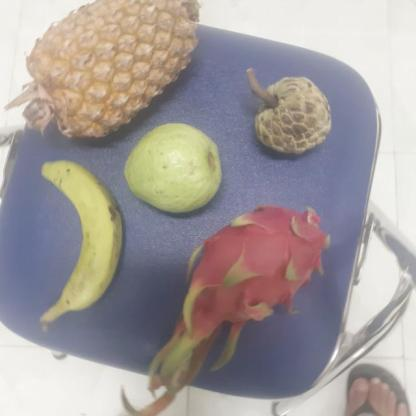annona: (252, 76, 336, 158)
banana: (38, 159, 128, 314)
guava: (124, 120, 228, 212)
pitaya: (183, 203, 336, 329)
